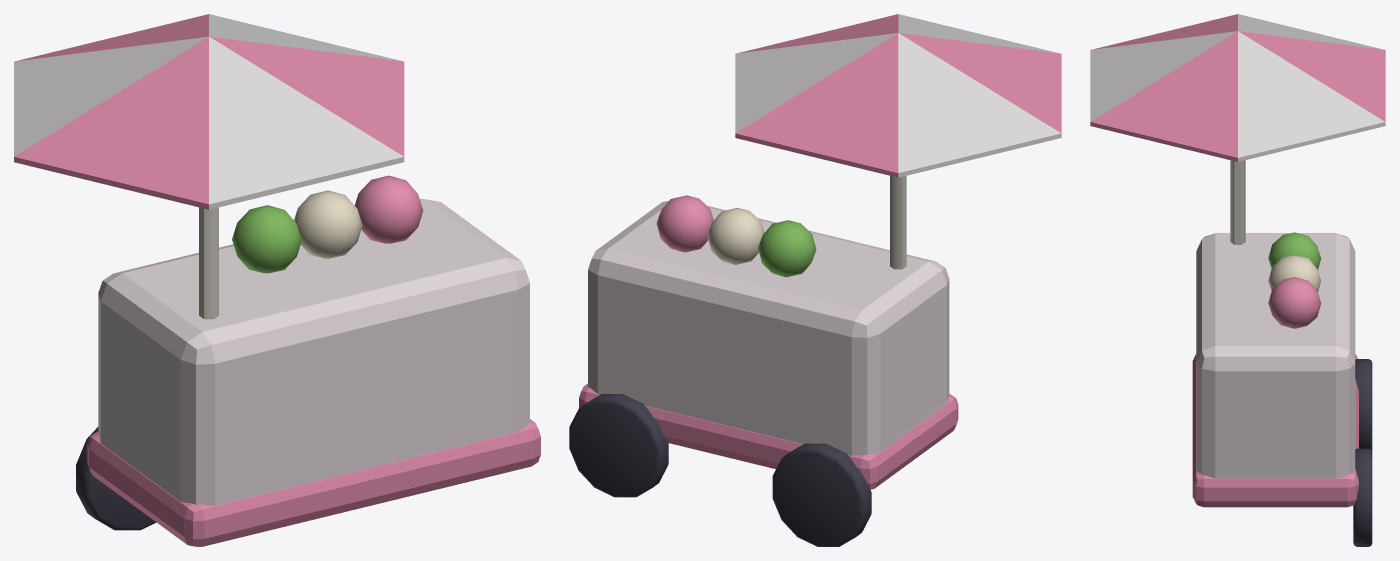
File: icecream_cart.fbx
The picture shows the model from 3 angles, left to right: view 1: azimuth 30°, elevation 25°; view 2: azimuth 150°, elevation 25°; view 3: azimuth 270°, elevation 25°; orthographic projection. The views are drawn at different scales.
Parts seen in each view (by area): view 1: icecream_cart; view 2: icecream_cart; view 3: icecream_cart.
Part boxes in pixels (left/top/right/bottom): icecream_cart: left=14, top=14, right=540, bottom=546; icecream_cart: left=569, top=14, right=1061, bottom=546; icecream_cart: left=1090, top=14, right=1385, bottom=546.
Size of the model in its own units: 1.16 by 1.22 by 0.7794.
